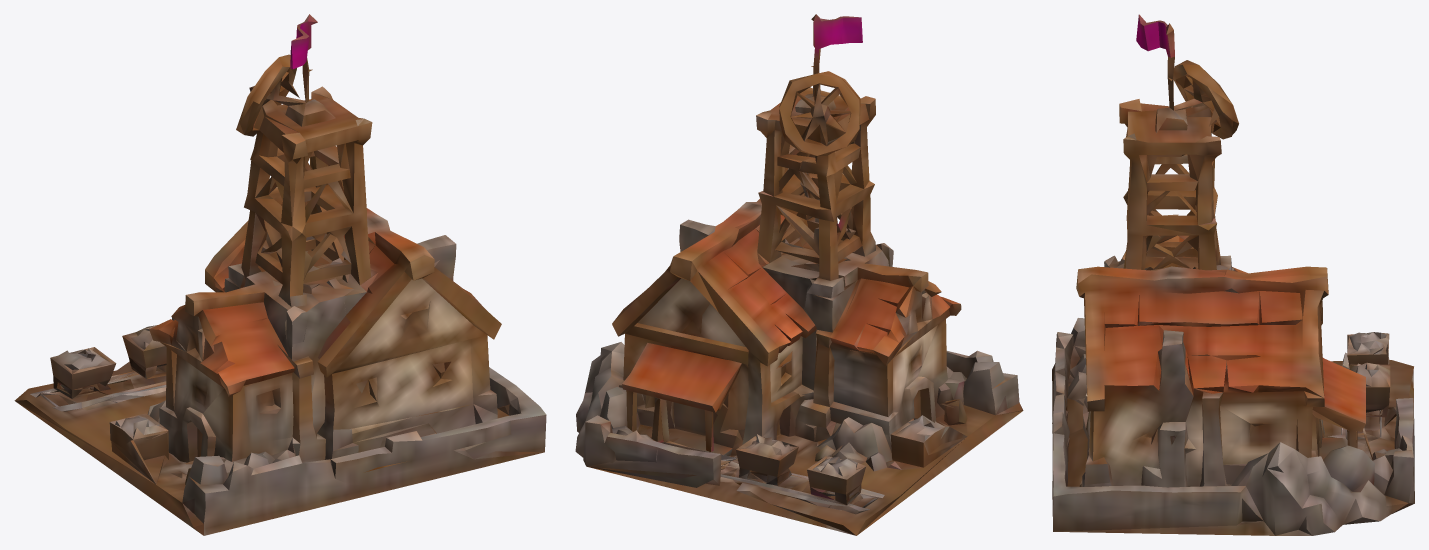
File: stone_mine3.lod2.glb
The picture shows the model from 3 angles, left to right: view 1: azimuth 30°, elevation 25°; view 2: azimuth 150°, elevation 25°; view 3: azimuth 270°, elevation 25°; orthographic projection. The views are drawn at different scales.
Parts seen in each view (by area): view 1: stone_mine3.lod2_uv; view 2: stone_mine3.lod2_uv; view 3: stone_mine3.lod2_uv.
Boxes of the visible parts, bbox=[...] form: stone_mine3.lod2_uv: bbox=[14, 14, 546, 535]; stone_mine3.lod2_uv: bbox=[575, 14, 1023, 535]; stone_mine3.lod2_uv: bbox=[1052, 14, 1414, 535].
Bounding box in the file's own units: 1.62 × 1.9 × 1.46.
Materials: 1 (1 with a texture image).
